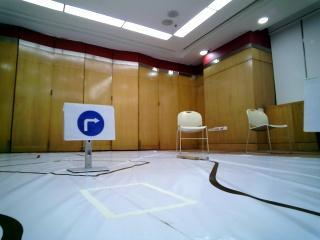right: (66, 104, 116, 140)
